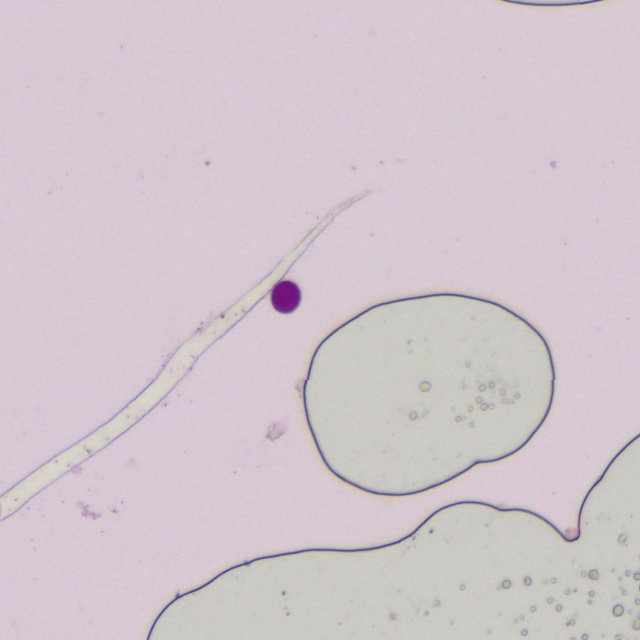viable: (272, 281, 300, 313)
